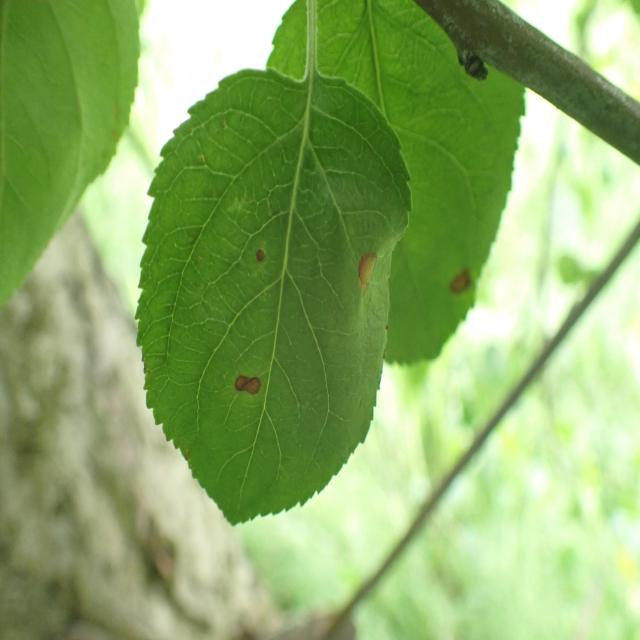Black Rot: (434, 250, 493, 330), (346, 228, 385, 307), (232, 371, 270, 415), (254, 233, 272, 279)
